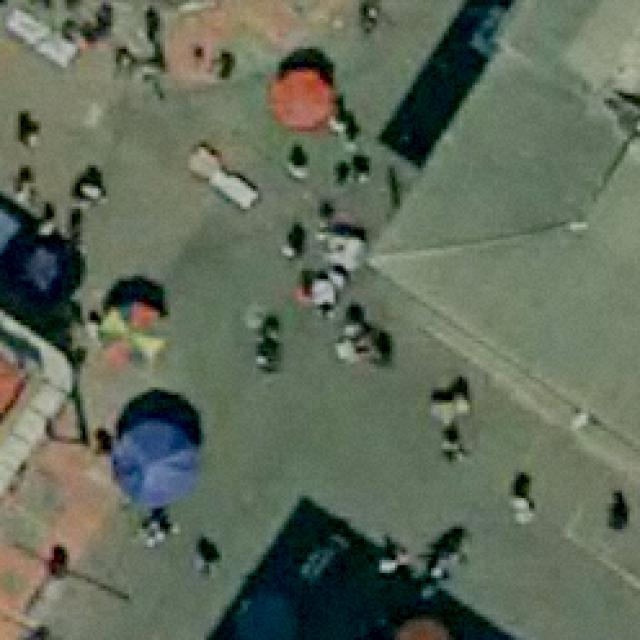vendedor_ambulante: (104, 414, 203, 504), (98, 300, 176, 378), (224, 580, 309, 640), (269, 61, 333, 130), (390, 606, 464, 640)
